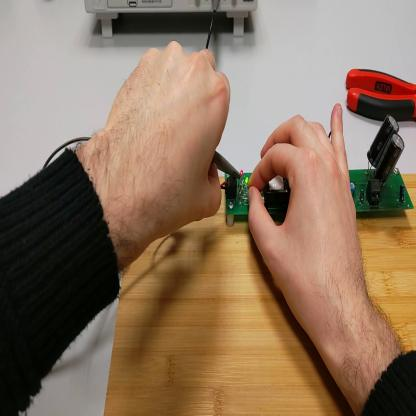hand: (249, 106, 367, 355), (97, 40, 229, 255)
high voltage board: (220, 115, 414, 215)
oscilloscope: (85, 1, 259, 41)
oscilloscope probe tip: (212, 150, 243, 180)
pliers: (347, 65, 416, 124)
working area: (105, 176, 416, 416)
